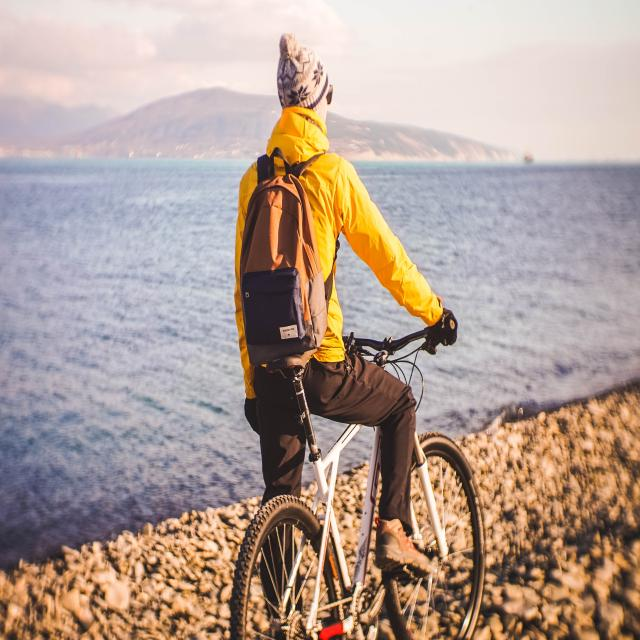backpack: (238, 150, 330, 369)
